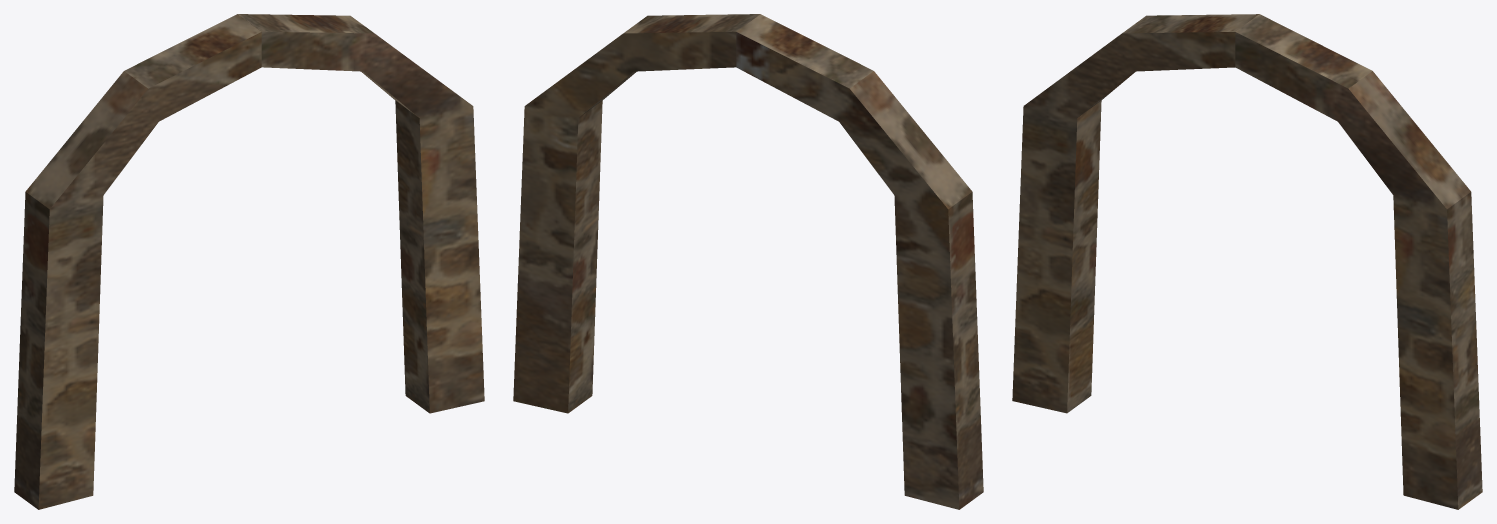
File: DoorBlock.fbx
3 renders of one model, left to right at view 1: azimuth 30°, elevation 25°; view 2: azimuth 150°, elevation 25°; view 3: azimuth 330°, elevation 25°, orthographic.
Parts seen in each view (by area): view 1: DoorBlock; view 2: DoorBlock; view 3: DoorBlock.
Part boxes in pixels (box(x1,y1,x2,y2)): DoorBlock: box(14, 14, 484, 509); DoorBlock: box(513, 14, 983, 509); DoorBlock: box(1012, 14, 1482, 509).
Size of the model in its own units: 2.23 by 2.03 by 0.2106.
1 material, 1 textured.
